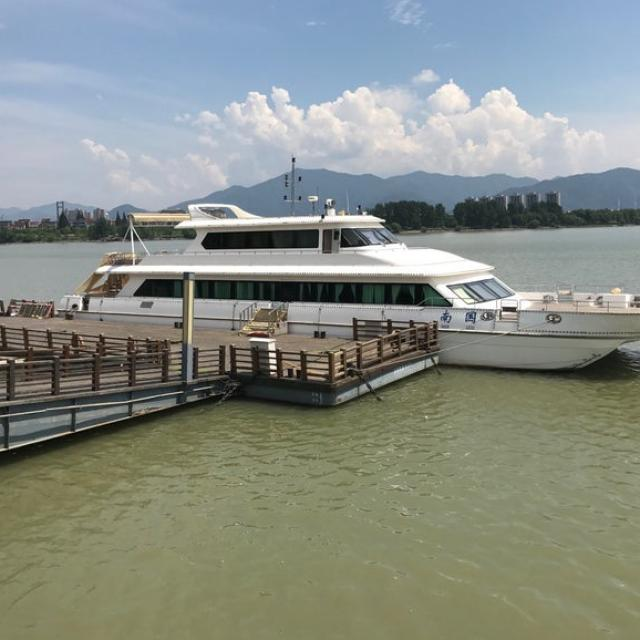houseboat: (61, 188, 640, 376)
